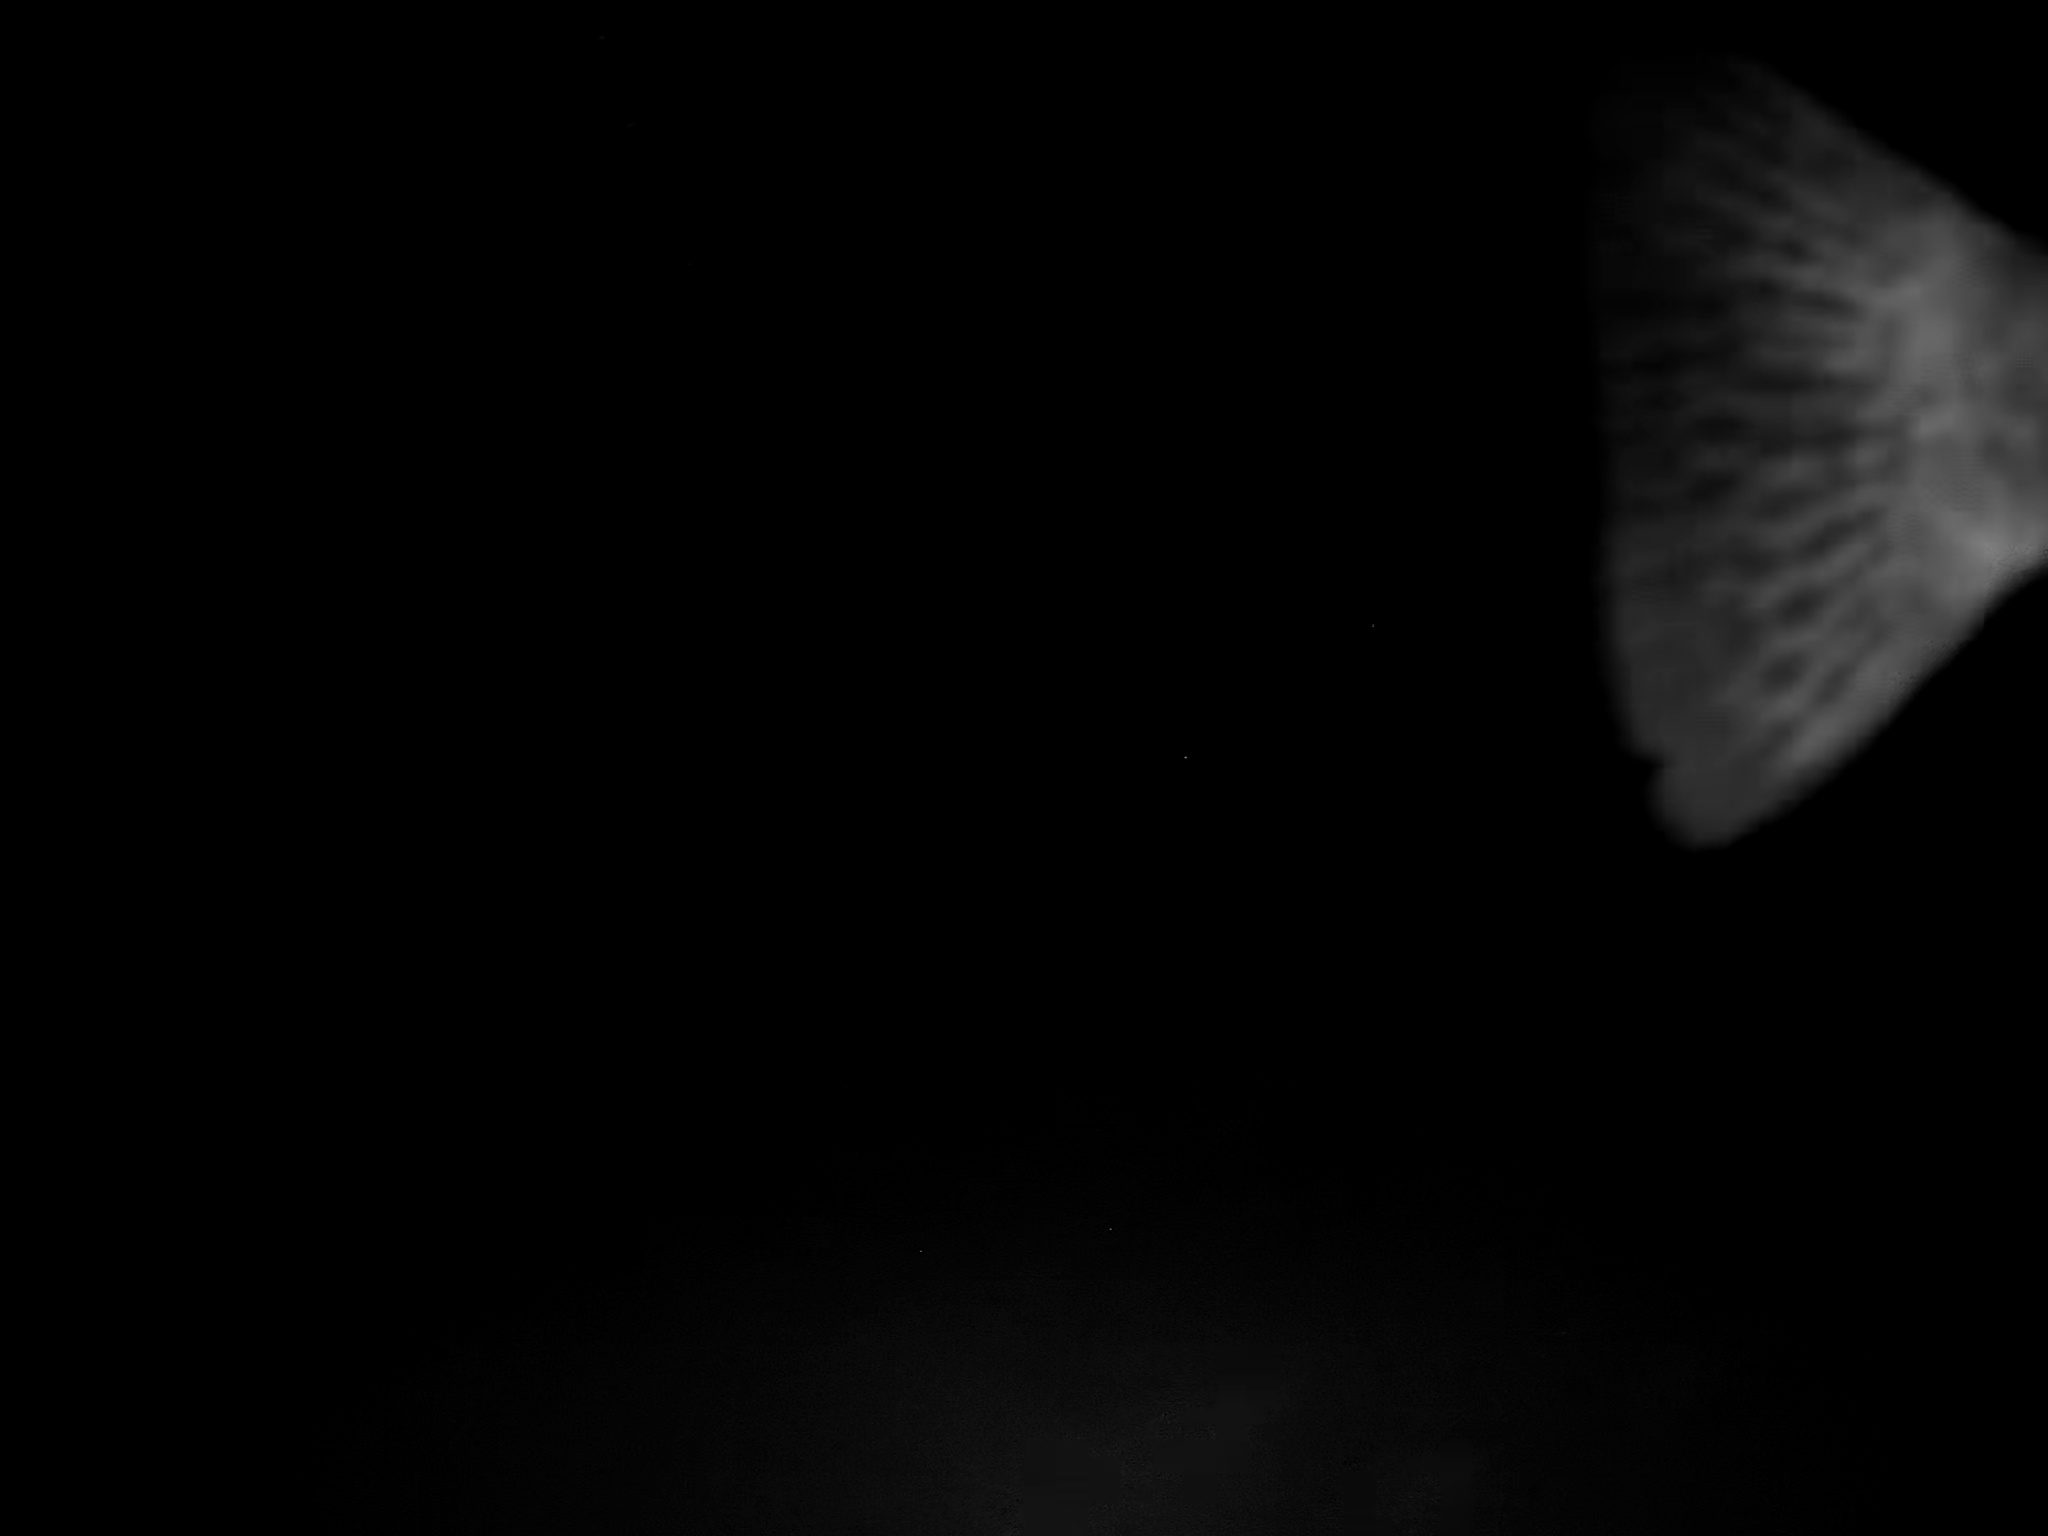fish: (1614, 94, 2048, 852)
